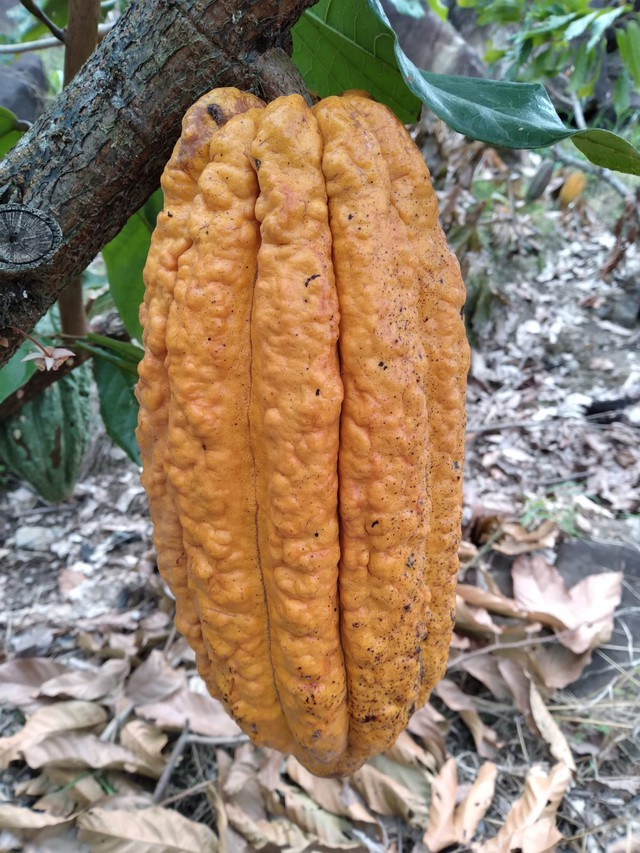Health: (128, 79, 479, 790)
